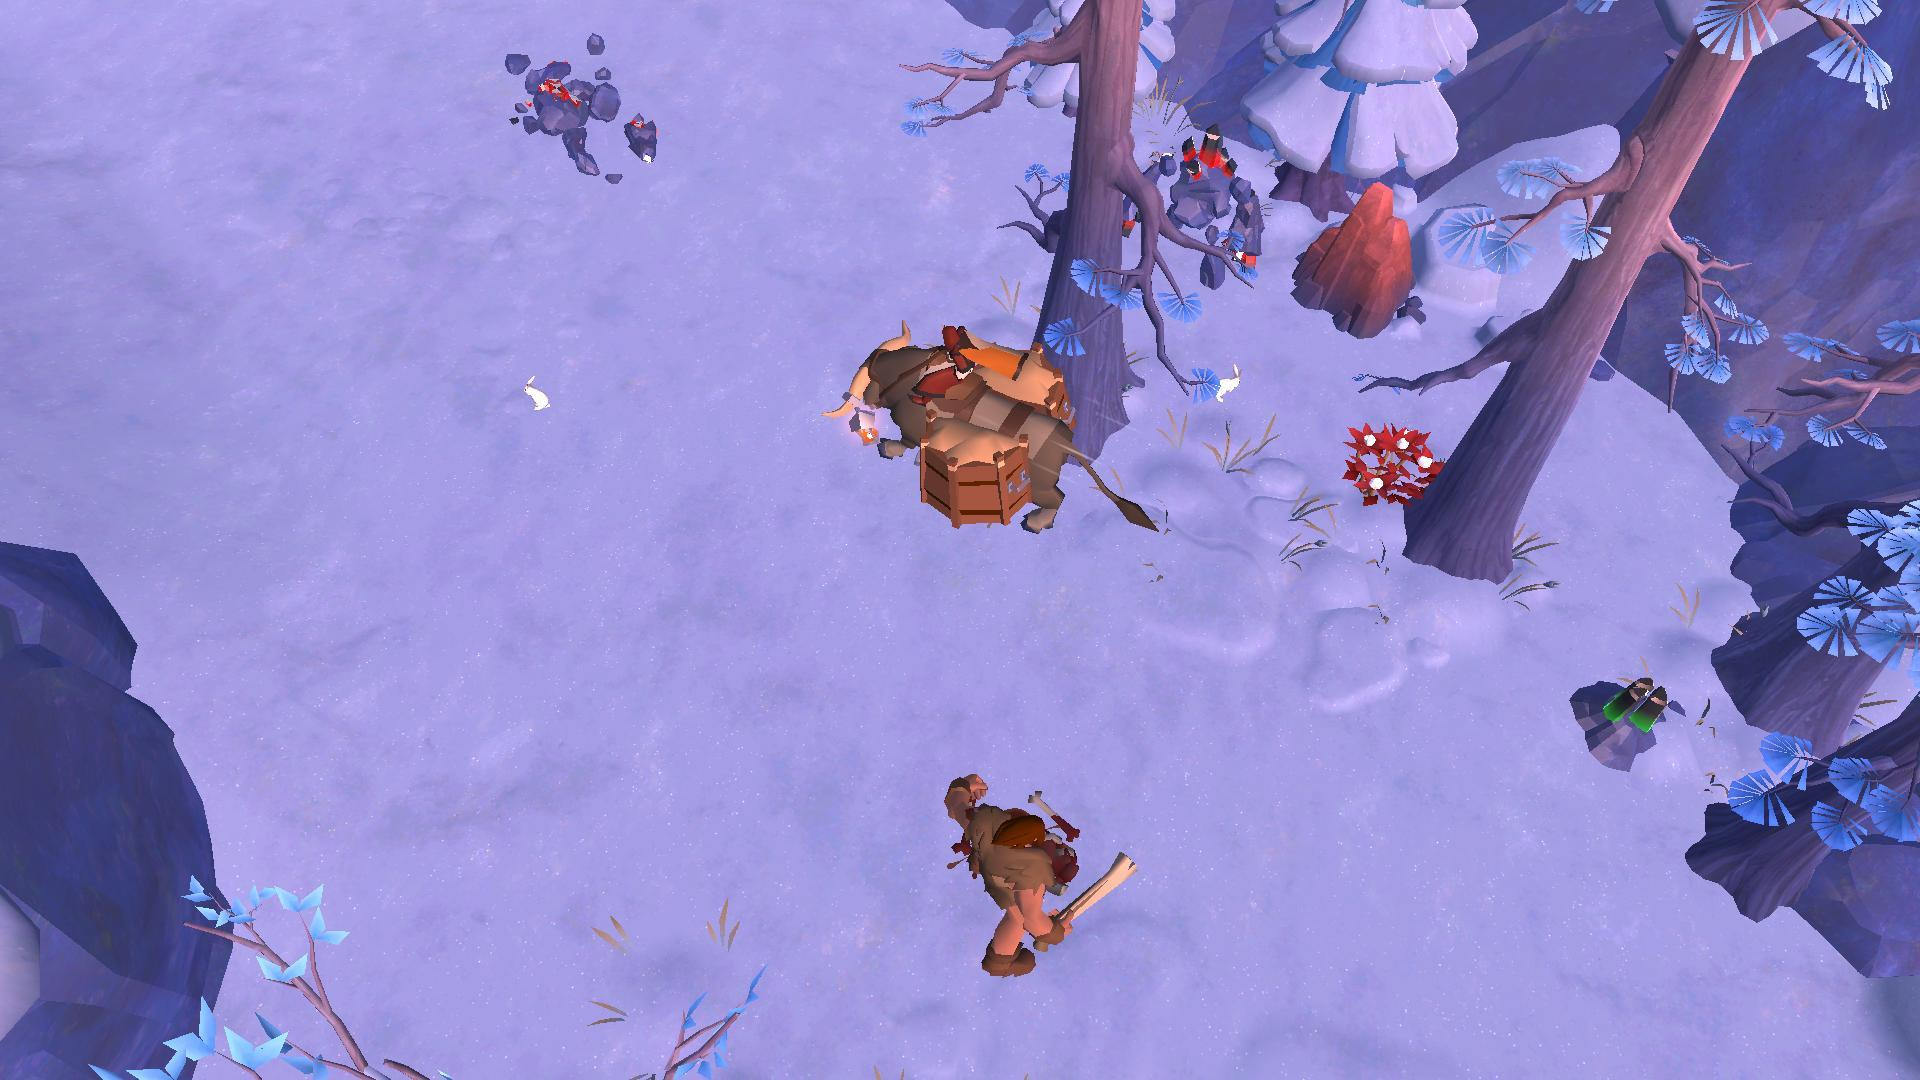enemy_factionKeeper: (940, 773, 1124, 982)
fiber_t5: (1333, 419, 1447, 517)
ore_t3: (1601, 663, 1671, 741)
rock_t5: (1292, 171, 1423, 340)
